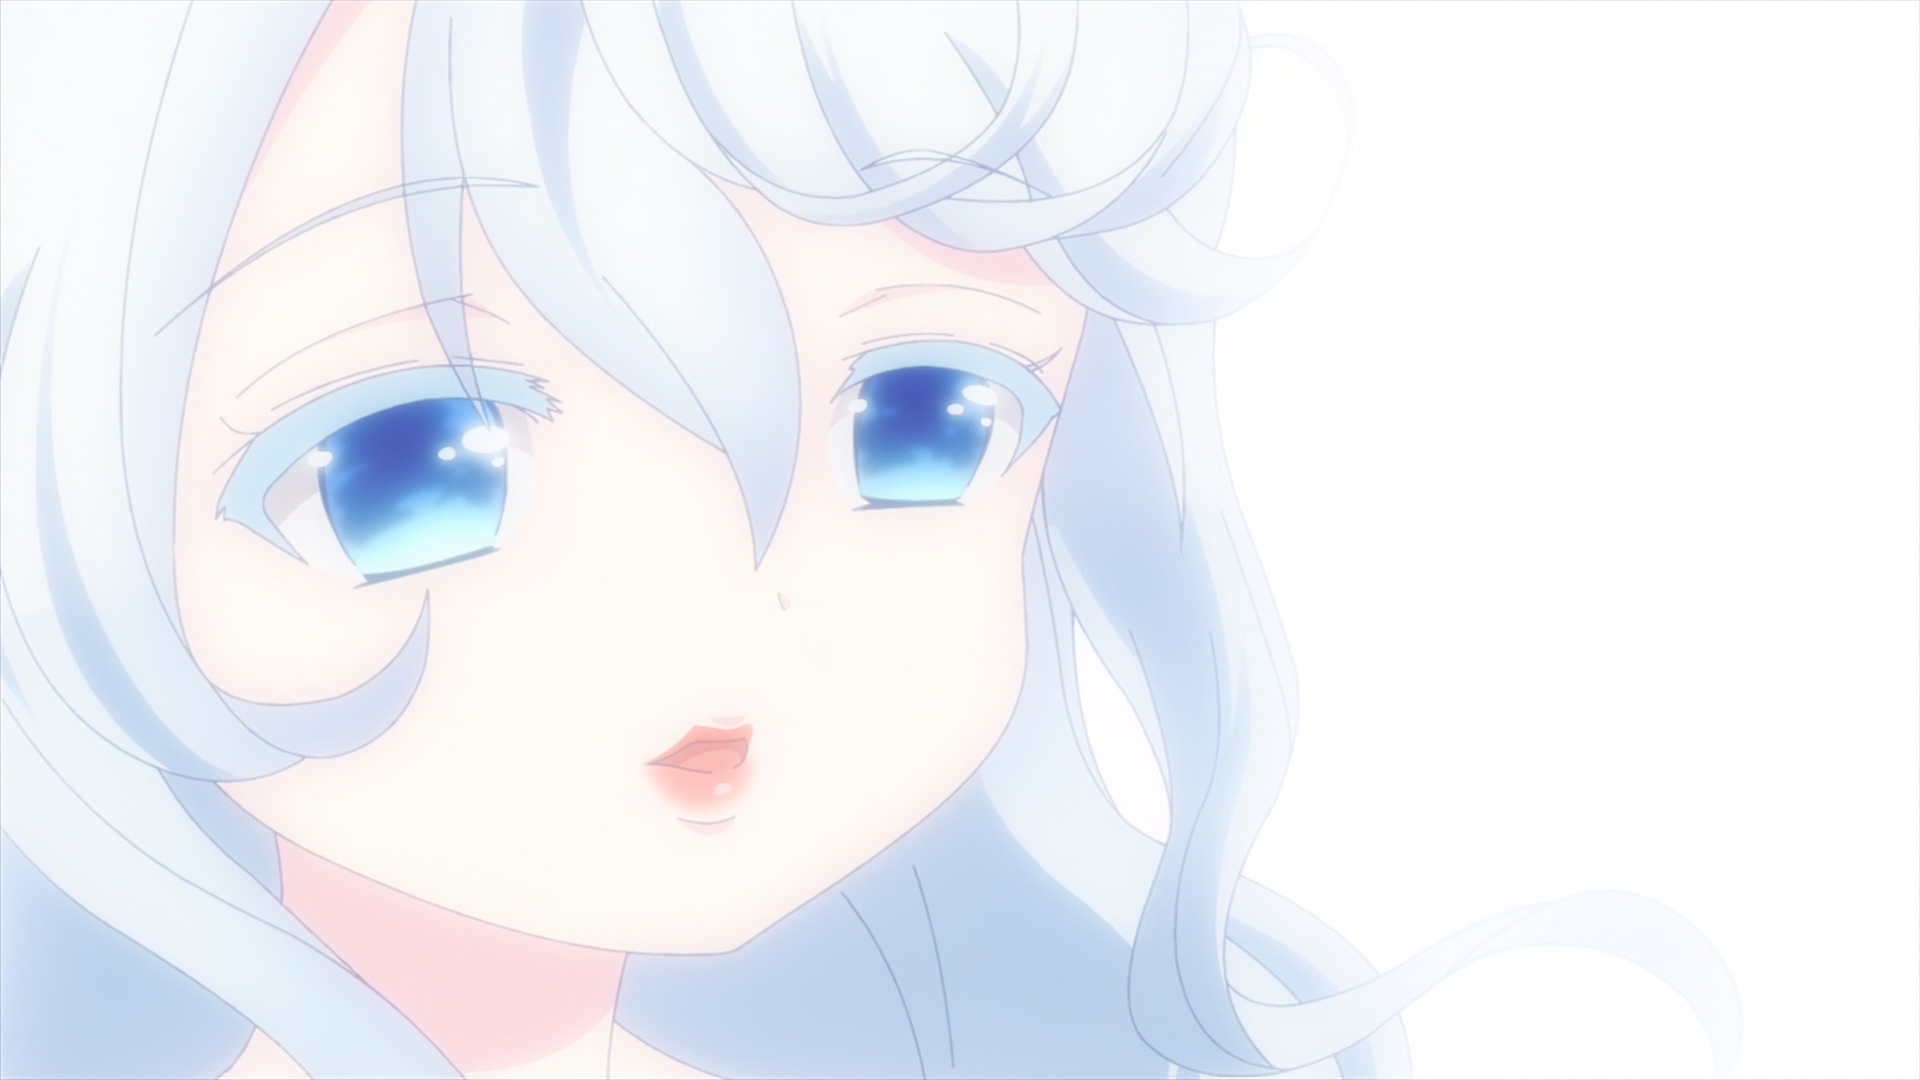其他: (1, 1, 1746, 1080)
